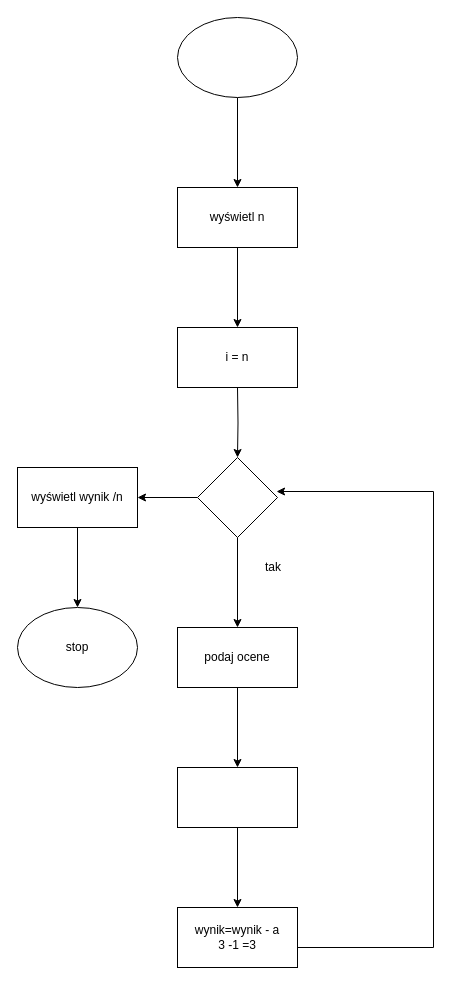
Some shapes in this 459 by 985 pixel diagram are drawn without their labels. The shapes that lost their labels are listed below. From the top down, each one's box as (x1, y1, x2, y2) in pixels, then its label:
(176, 16, 298, 98): Start
(196, 456, 278, 538): i.0
(176, 766, 298, 828): wynik= wynik + ocena
